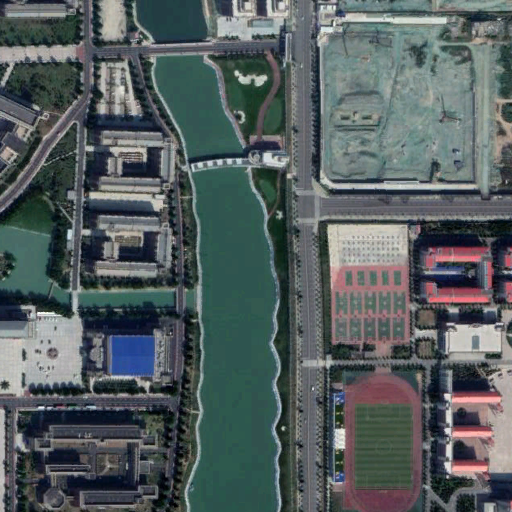cw: (320, 24, 496, 187)
